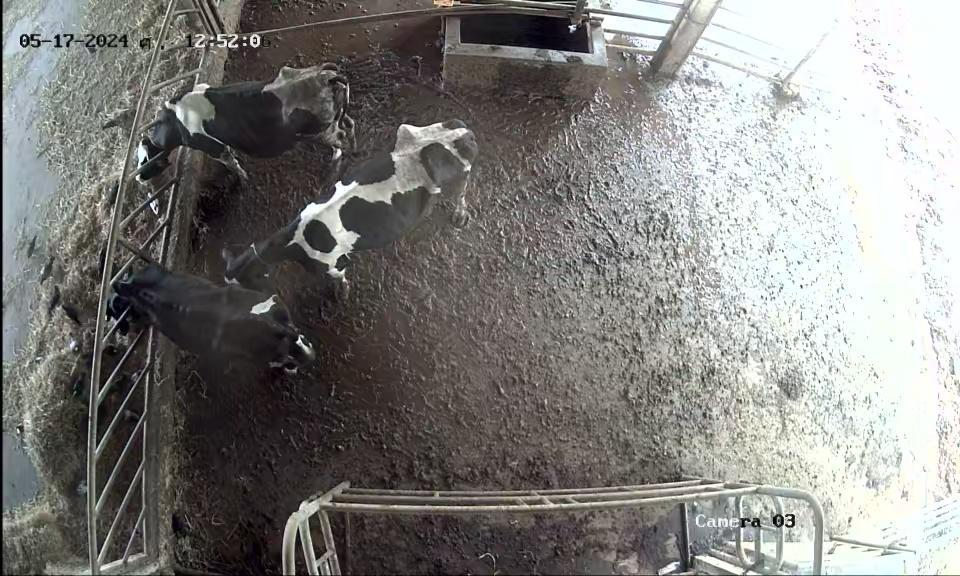eat: (102, 96, 212, 211), (77, 253, 181, 344)
stand: (208, 113, 503, 299)
